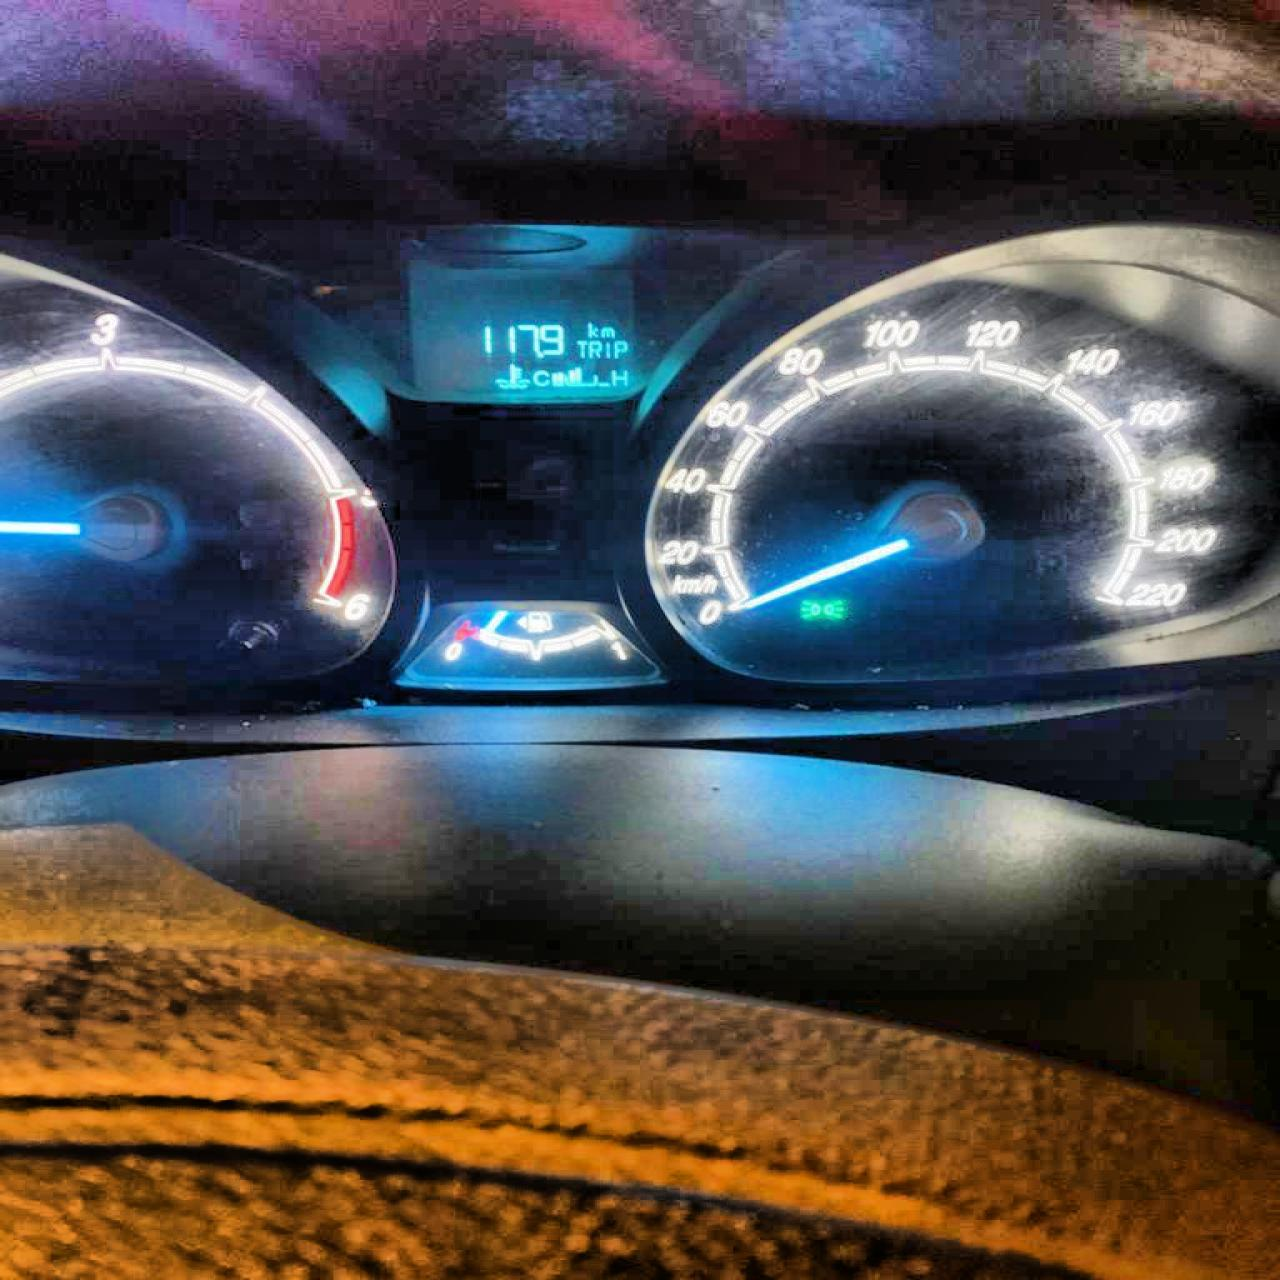-: (533, 347, 545, 359)
1: (478, 322, 495, 355), (503, 322, 515, 355)
7: (515, 321, 538, 353)
9: (537, 322, 566, 354)
X: (610, 368, 629, 388), (530, 368, 549, 388), (612, 338, 628, 359), (586, 336, 601, 358), (576, 339, 587, 358), (585, 320, 597, 336), (604, 338, 612, 359), (600, 325, 613, 336)
odometer: (423, 300, 648, 401)
